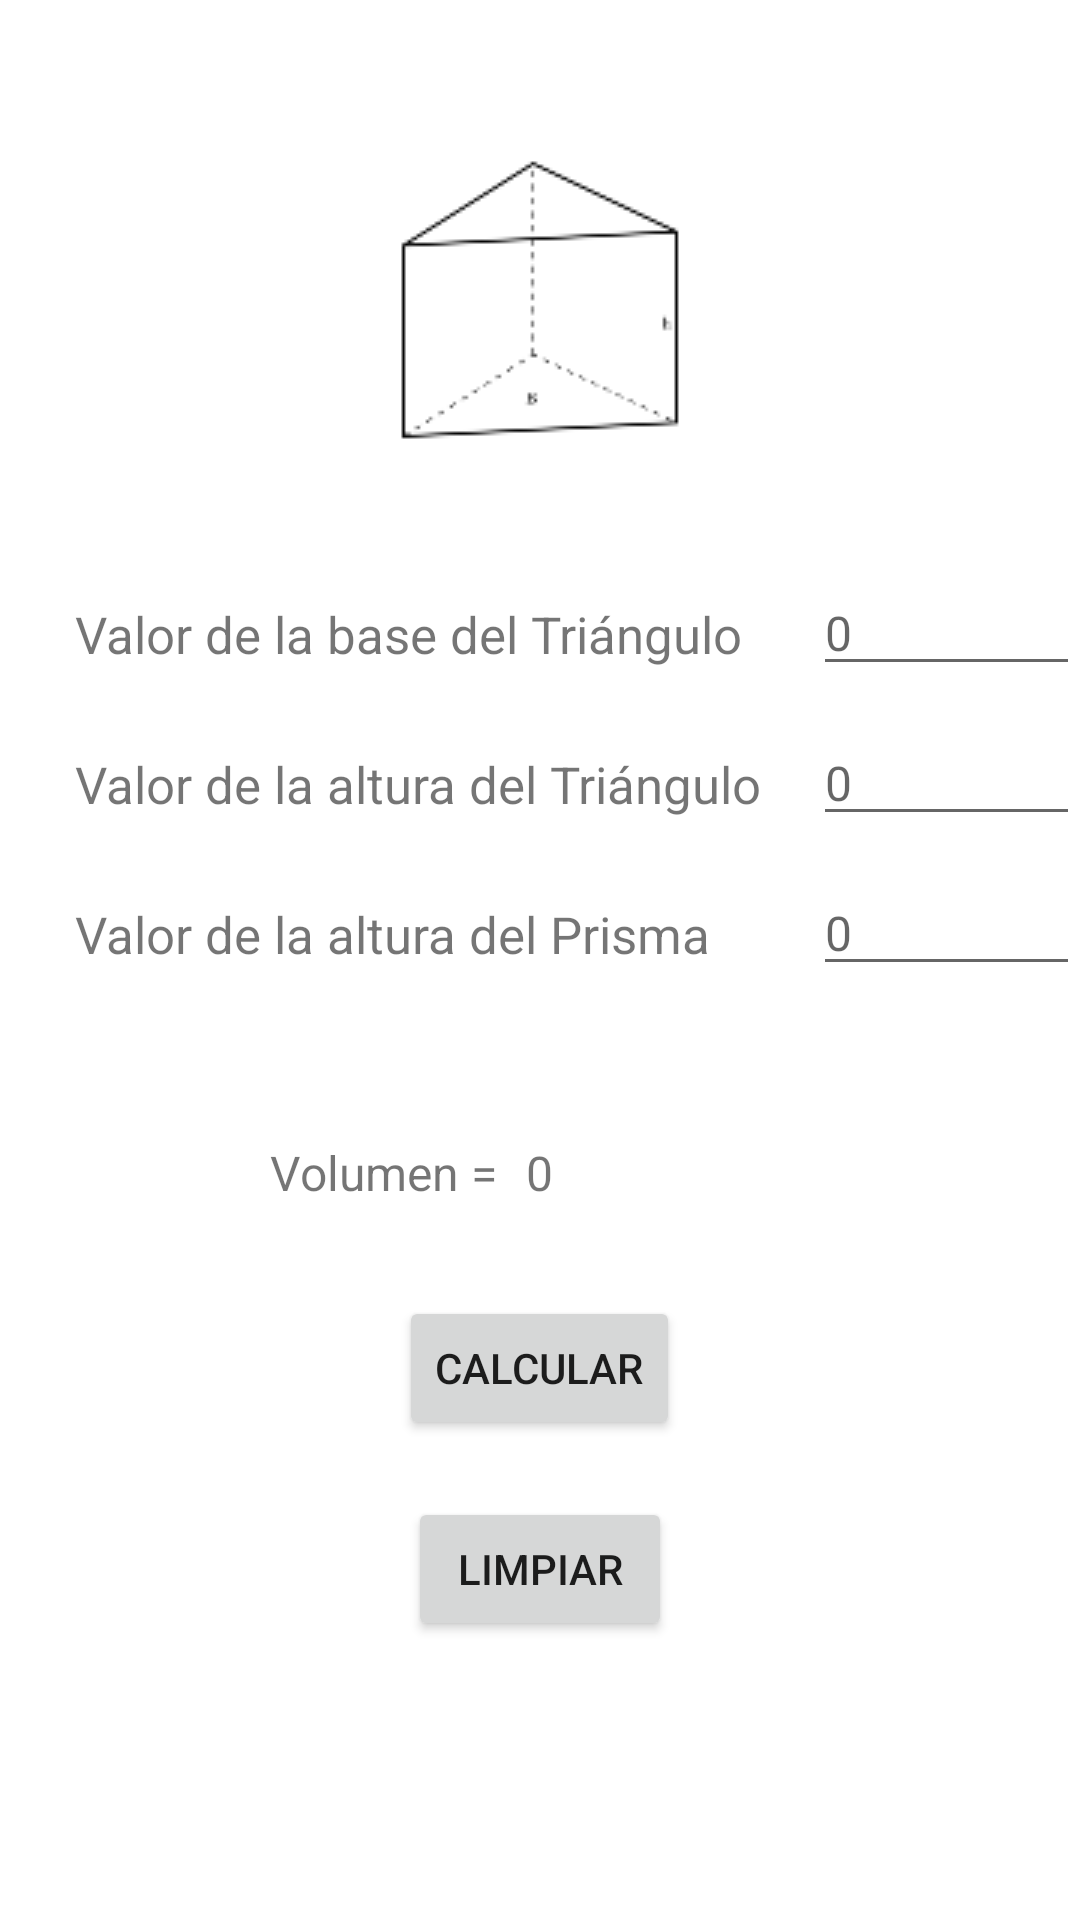

Point at icon controls on the screen. Image size 1080 × 1920, points as point (x, y).
ptriangular: point (540, 300)
